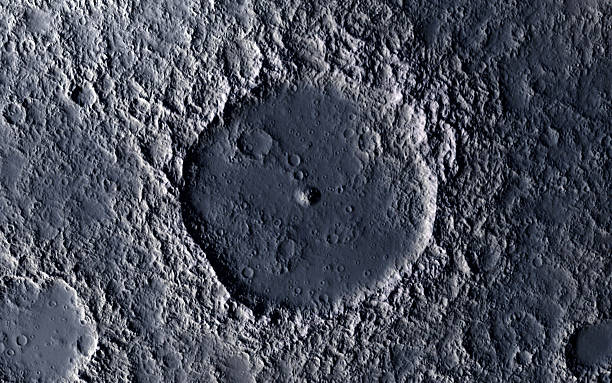boulder: (295, 187, 321, 208)
crater: (182, 70, 440, 323), (237, 127, 274, 162)
